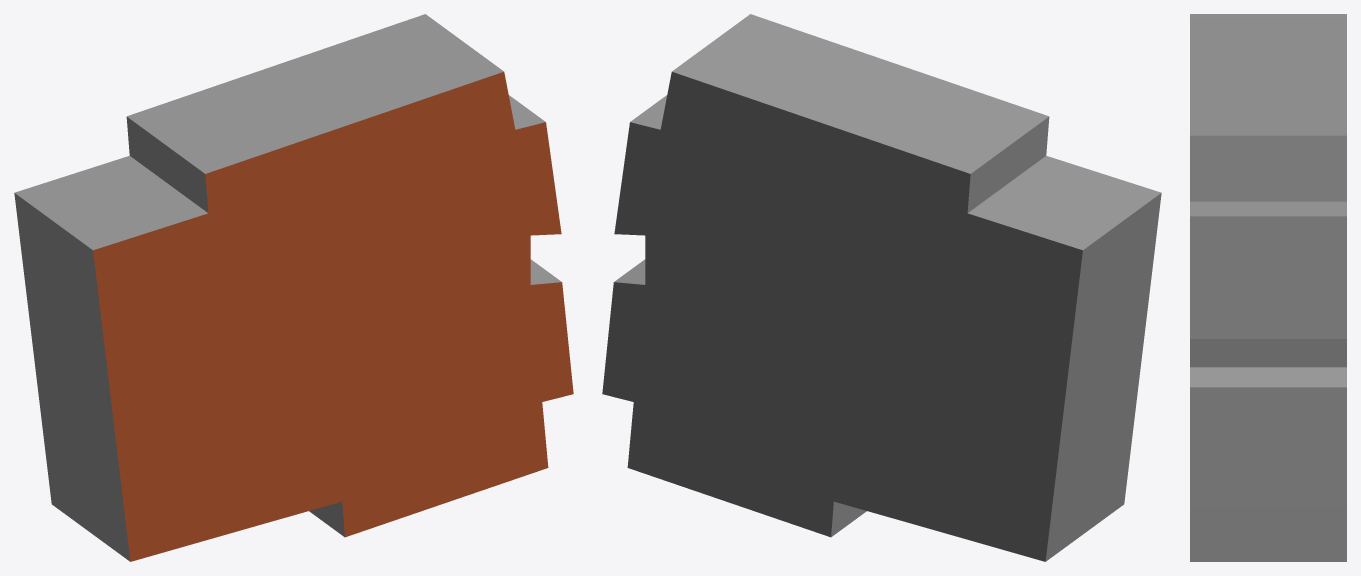
The model's file is construction_0809_assumed_A_Casa_h6m.obj.
3 renders of one model, left to right at view 1: azimuth 30°, elevation 25°; view 2: azimuth 150°, elevation 25°; view 3: azimuth 270°, elevation 25°, orthographic.
Parts seen in each view (by area): view 1: construction_0809_assumed_A_Casa; view 2: construction_0809_assumed_A_Casa; view 3: construction_0809_assumed_A_Casa.
Part boxes in pixels (x1,y1,x2,y2): construction_0809_assumed_A_Casa: (14,14,573,561); construction_0809_assumed_A_Casa: (602,14,1161,561); construction_0809_assumed_A_Casa: (1190,14,1346,561).
Size of the model in its own units: 21.14 by 17.95 by 6.
